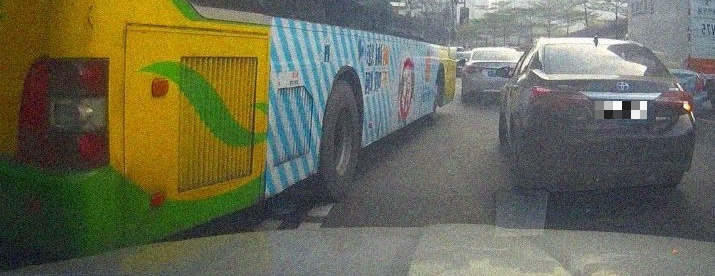L_light: (532, 87, 591, 112)
R_light: (651, 91, 694, 114)
T_light: (596, 69, 622, 74)
day-right: (531, 37, 697, 193)
plate_1: (595, 101, 647, 119)
